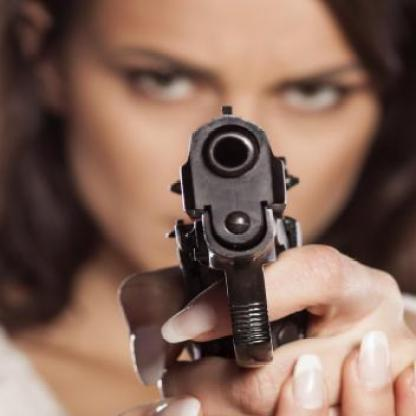gun: (160, 102, 308, 373)
